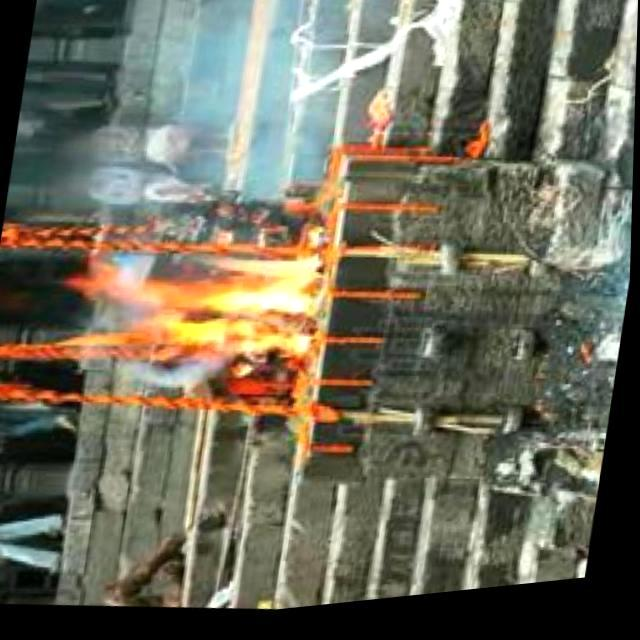fire: (87, 225, 336, 388)
